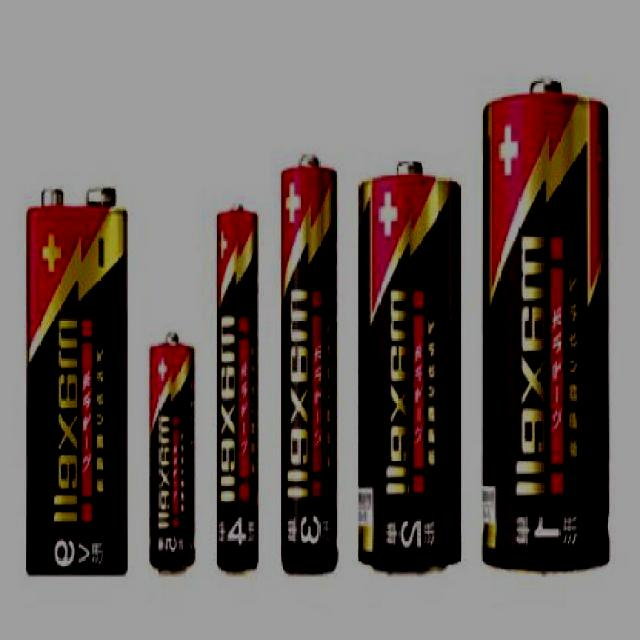9V: (24, 185, 129, 580)
AA: (349, 151, 463, 594)
AAA: (269, 150, 342, 586)
